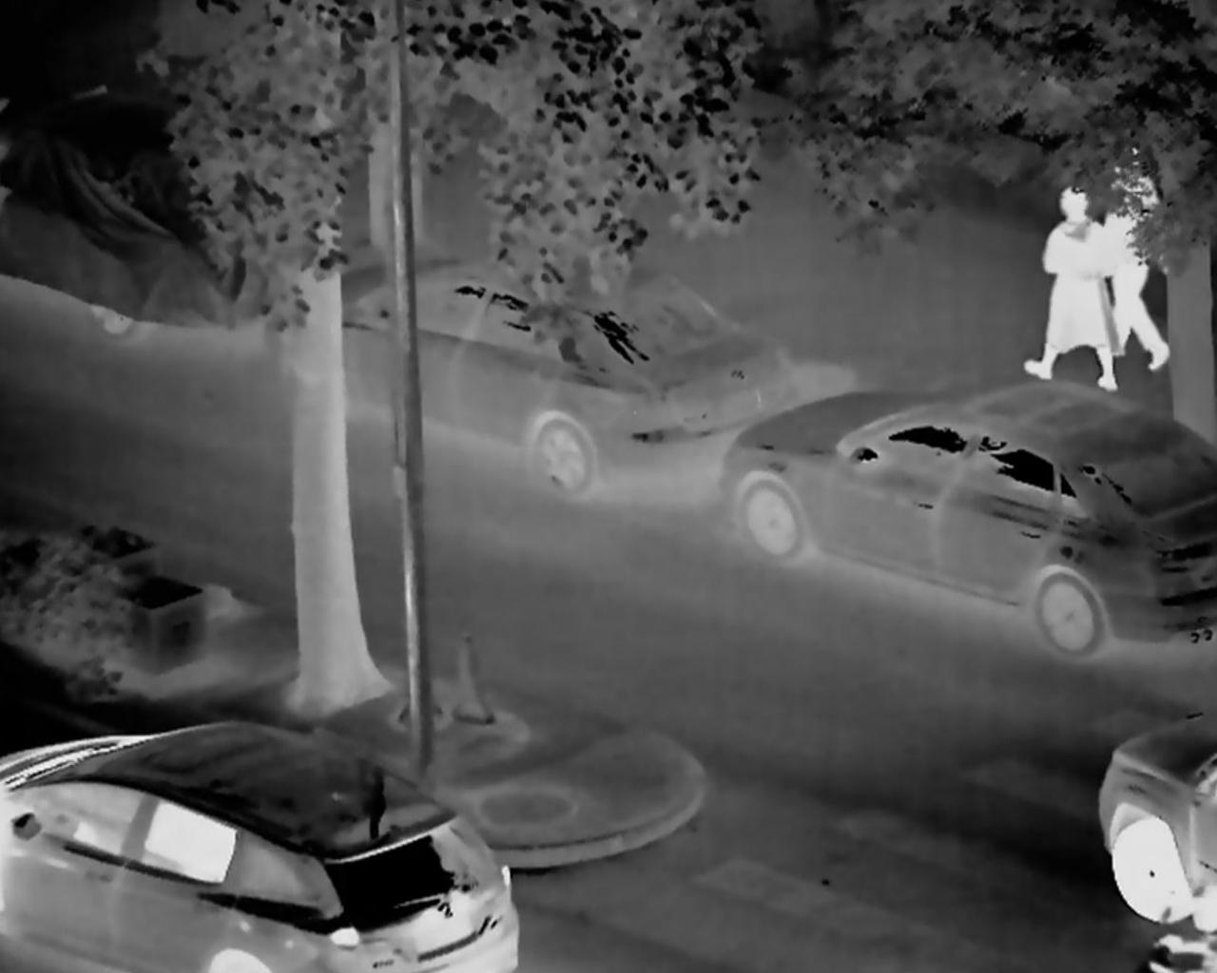person: (1028, 185, 1125, 389), (1099, 162, 1175, 368)
